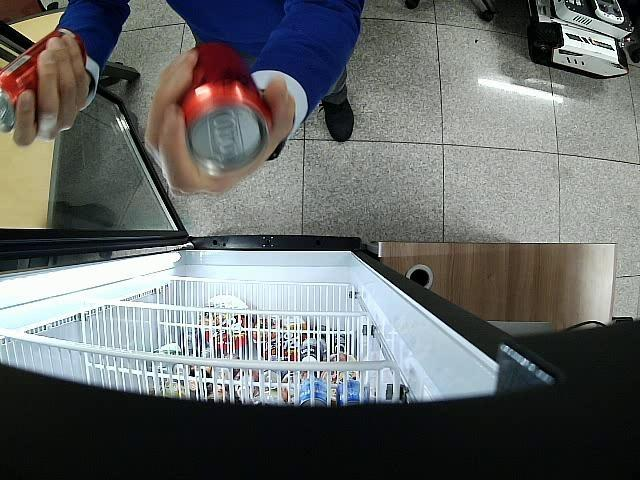11_cocaColaZero: (178, 42, 274, 174), (0, 29, 84, 134)
